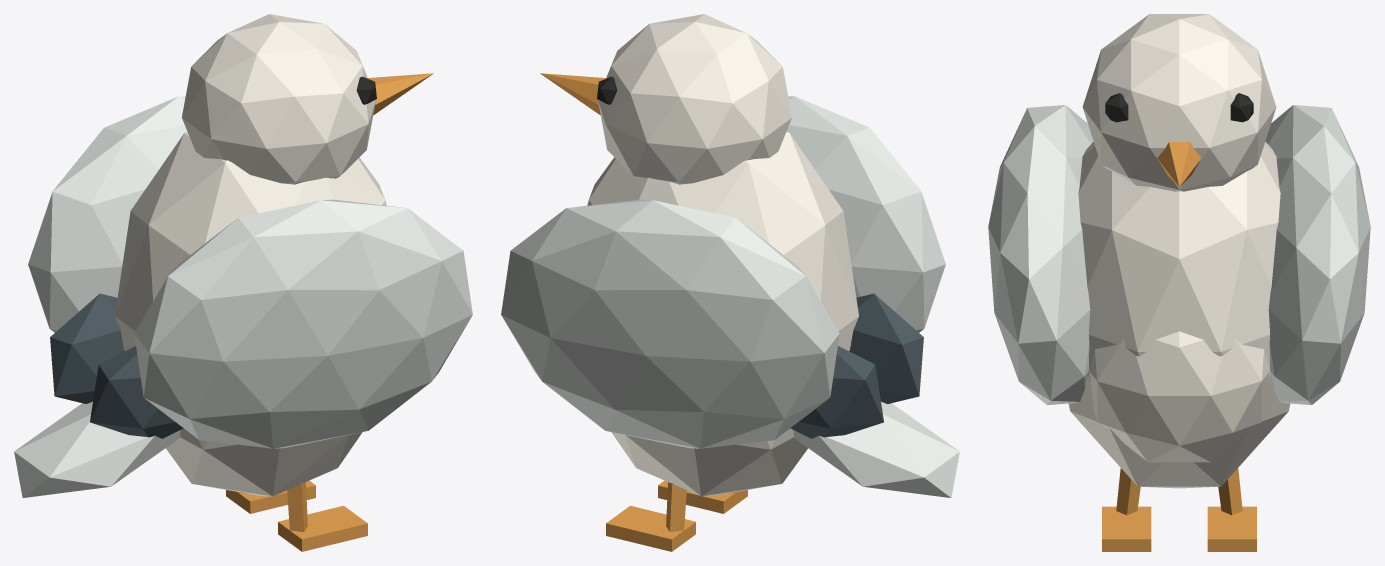
The model's file is bay-seagull.glb.
The picture shows the model from 3 angles, left to right: view 1: azimuth 30°, elevation 25°; view 2: azimuth 150°, elevation 25°; view 3: azimuth 270°, elevation 25°; orthographic projection.
Visible parts, largest first — view 1: GEO-gull_wing_-1, GEO-gull_head, GEO-gull_body, GEO-gull_wing_1, GEO-gull_tail, GEO-gull_wingtip_1, GEO-gull_wingtip_-1, GEO-gull_foot_-1, GEO-gull_beak, GEO-gull_foot_1, GEO-gull_leg_-1; view 2: GEO-gull_wing_1, GEO-gull_head, GEO-gull_body, GEO-gull_wing_-1, GEO-gull_tail, GEO-gull_wingtip_-1, GEO-gull_wingtip_1, GEO-gull_foot_1, GEO-gull_beak, GEO-gull_foot_-1, GEO-gull_leg_1; view 3: GEO-gull_body, GEO-gull_head, GEO-gull_wing_-1, GEO-gull_wing_1, GEO-gull_breast, GEO-gull_foot_-1, GEO-gull_foot_1, GEO-gull_beak, GEO-gull_leg_-1, GEO-gull_leg_1, GEO-gull_eye_-1, GEO-gull_eye_1.
Part boxes in pixels (bbox=[...]): GEO-gull_wing_-1: bbox=[134, 199, 472, 448]; GEO-gull_head: bbox=[182, 14, 375, 184]; GEO-gull_body: bbox=[115, 131, 386, 496]; GEO-gull_wing_1: bbox=[28, 96, 187, 332]; GEO-gull_tail: bbox=[14, 401, 180, 497]; GEO-gull_wingtip_1: bbox=[50, 293, 124, 403]; GEO-gull_wingtip_-1: bbox=[90, 346, 183, 438]; GEO-gull_foot_-1: bbox=[278, 505, 367, 551]; GEO-gull_beak: bbox=[368, 73, 433, 115]; GEO-gull_foot_1: bbox=[226, 480, 315, 513]; GEO-gull_leg_-1: bbox=[287, 482, 307, 531]; GEO-gull_wing_1: bbox=[501, 199, 839, 448]; GEO-gull_head: bbox=[598, 14, 791, 184]; GEO-gull_body: bbox=[587, 131, 858, 496]; GEO-gull_wing_-1: bbox=[786, 96, 945, 332]; GEO-gull_tail: bbox=[793, 401, 959, 497]; GEO-gull_wingtip_-1: bbox=[849, 293, 923, 403]; GEO-gull_wingtip_1: bbox=[790, 346, 883, 438]; GEO-gull_foot_1: bbox=[606, 505, 695, 551]; GEO-gull_beak: bbox=[540, 73, 605, 115]; GEO-gull_foot_-1: bbox=[658, 480, 747, 513]; GEO-gull_leg_1: bbox=[666, 482, 686, 531]; GEO-gull_body: bbox=[1068, 142, 1290, 488]; GEO-gull_head: bbox=[1082, 14, 1276, 191]; GEO-gull_wing_-1: bbox=[988, 105, 1093, 405]; GEO-gull_wing_1: bbox=[1265, 105, 1370, 405]; GEO-gull_breast: bbox=[1089, 331, 1269, 462]; GEO-gull_foot_-1: bbox=[1102, 506, 1151, 551]; GEO-gull_foot_1: bbox=[1207, 506, 1256, 551]; GEO-gull_beak: bbox=[1157, 142, 1201, 186]; GEO-gull_leg_-1: bbox=[1116, 468, 1140, 515]; GEO-gull_leg_1: bbox=[1218, 468, 1242, 515]; GEO-gull_eye_-1: bbox=[1105, 93, 1128, 122]; GEO-gull_eye_1: bbox=[1230, 93, 1253, 122].
Size of the model in its own units: 0.6879 by 0.7958 by 0.5436.
